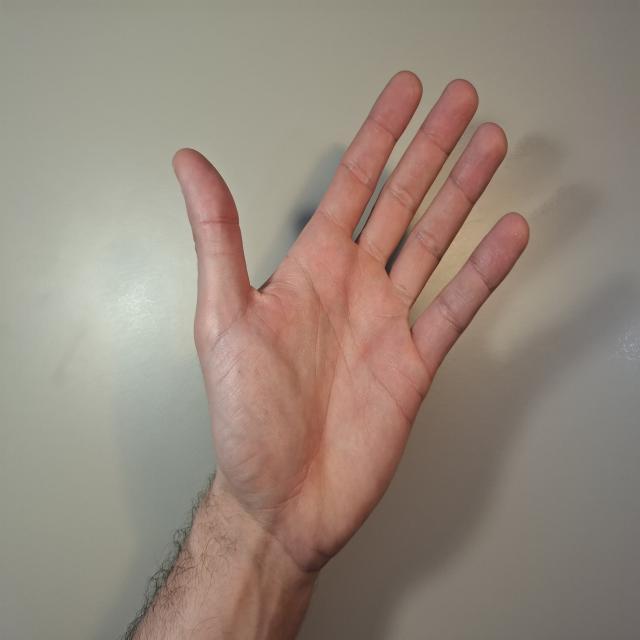glove_off: (169, 66, 532, 583)
